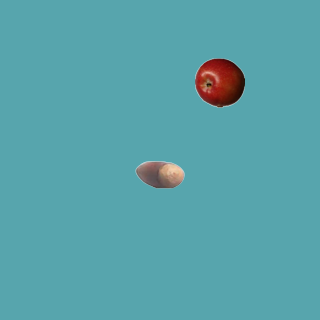Apple Braeburn: (194, 57, 244, 107)
Hazelnut: (134, 149, 184, 199)
